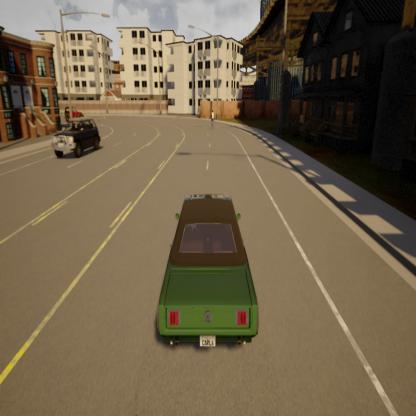Cars: (147, 186, 262, 364), (52, 118, 105, 169), (60, 102, 85, 124)
